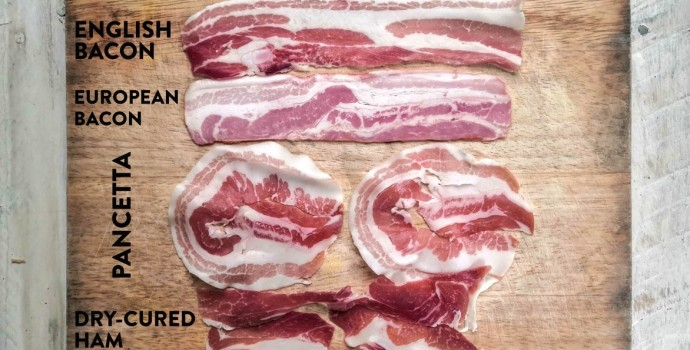bacon: (183, 7, 498, 141), (168, 137, 356, 304), (351, 148, 526, 288)
